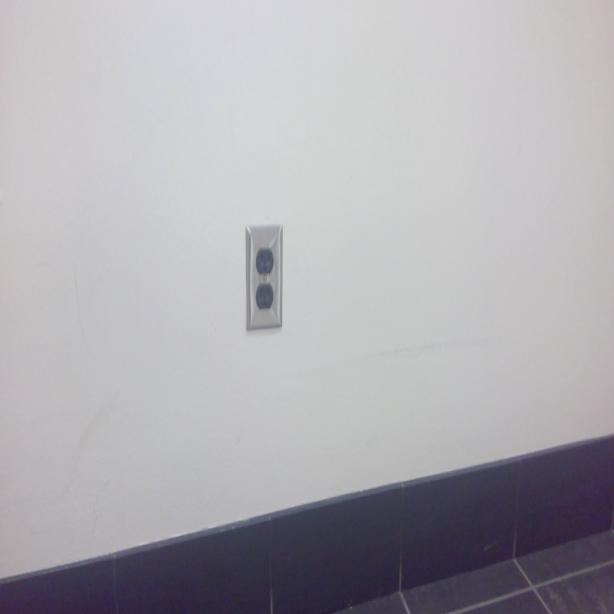typeb: (254, 284, 272, 310), (256, 250, 273, 276)
